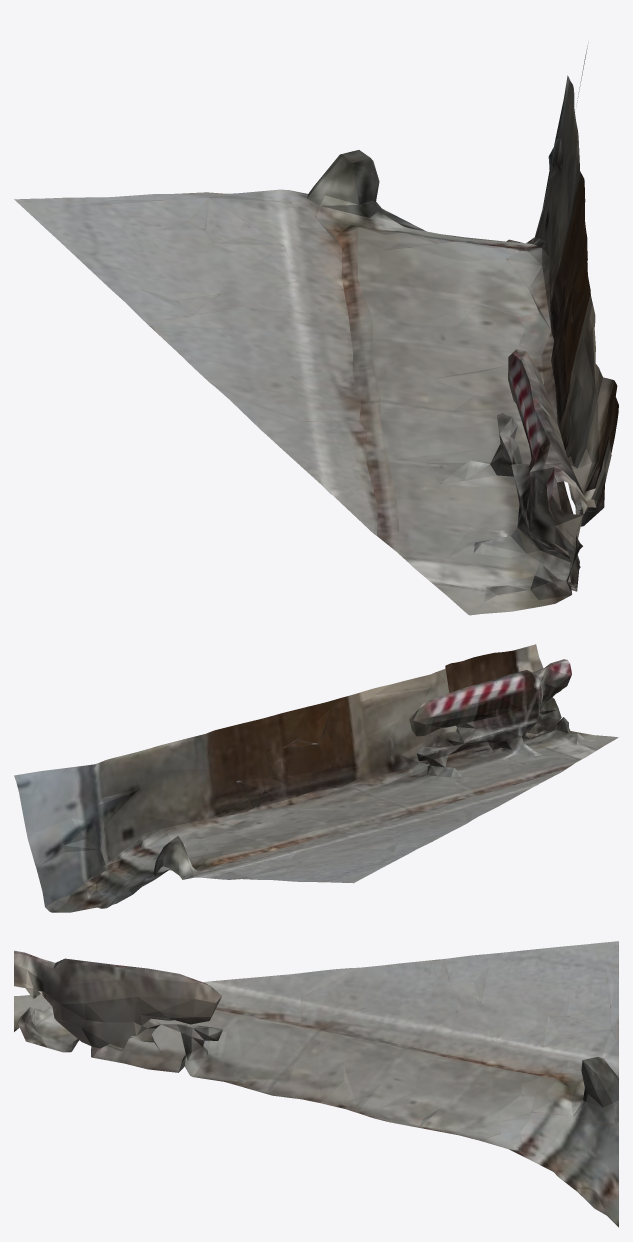
The picture shows the model from 3 angles, top to bottom: view 1: azimuth 30°, elevation 25°; view 2: azimuth 150°, elevation 25°; view 3: azimuth 270°, elevation 25°; orthographic projection. The views are drawn at different scales.
Bounding box in the file's own units: 4.96 × 1.78 × 6.7.
2 materials, 2 textured.
